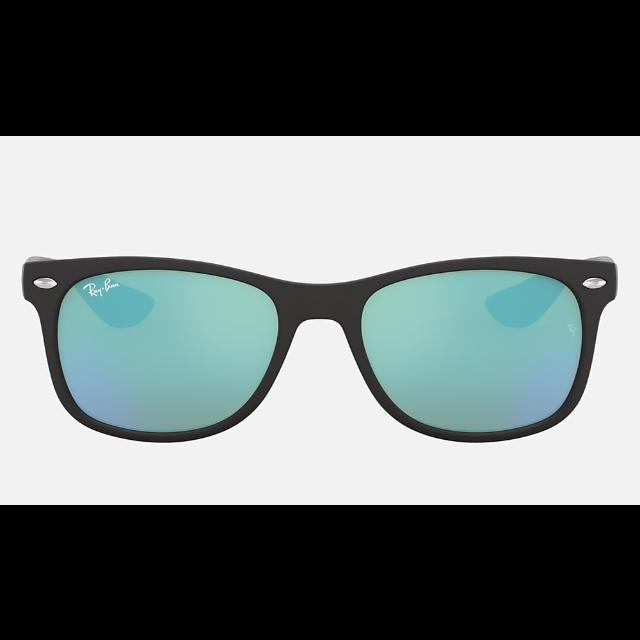Sunglasses: (24, 253, 620, 442)
